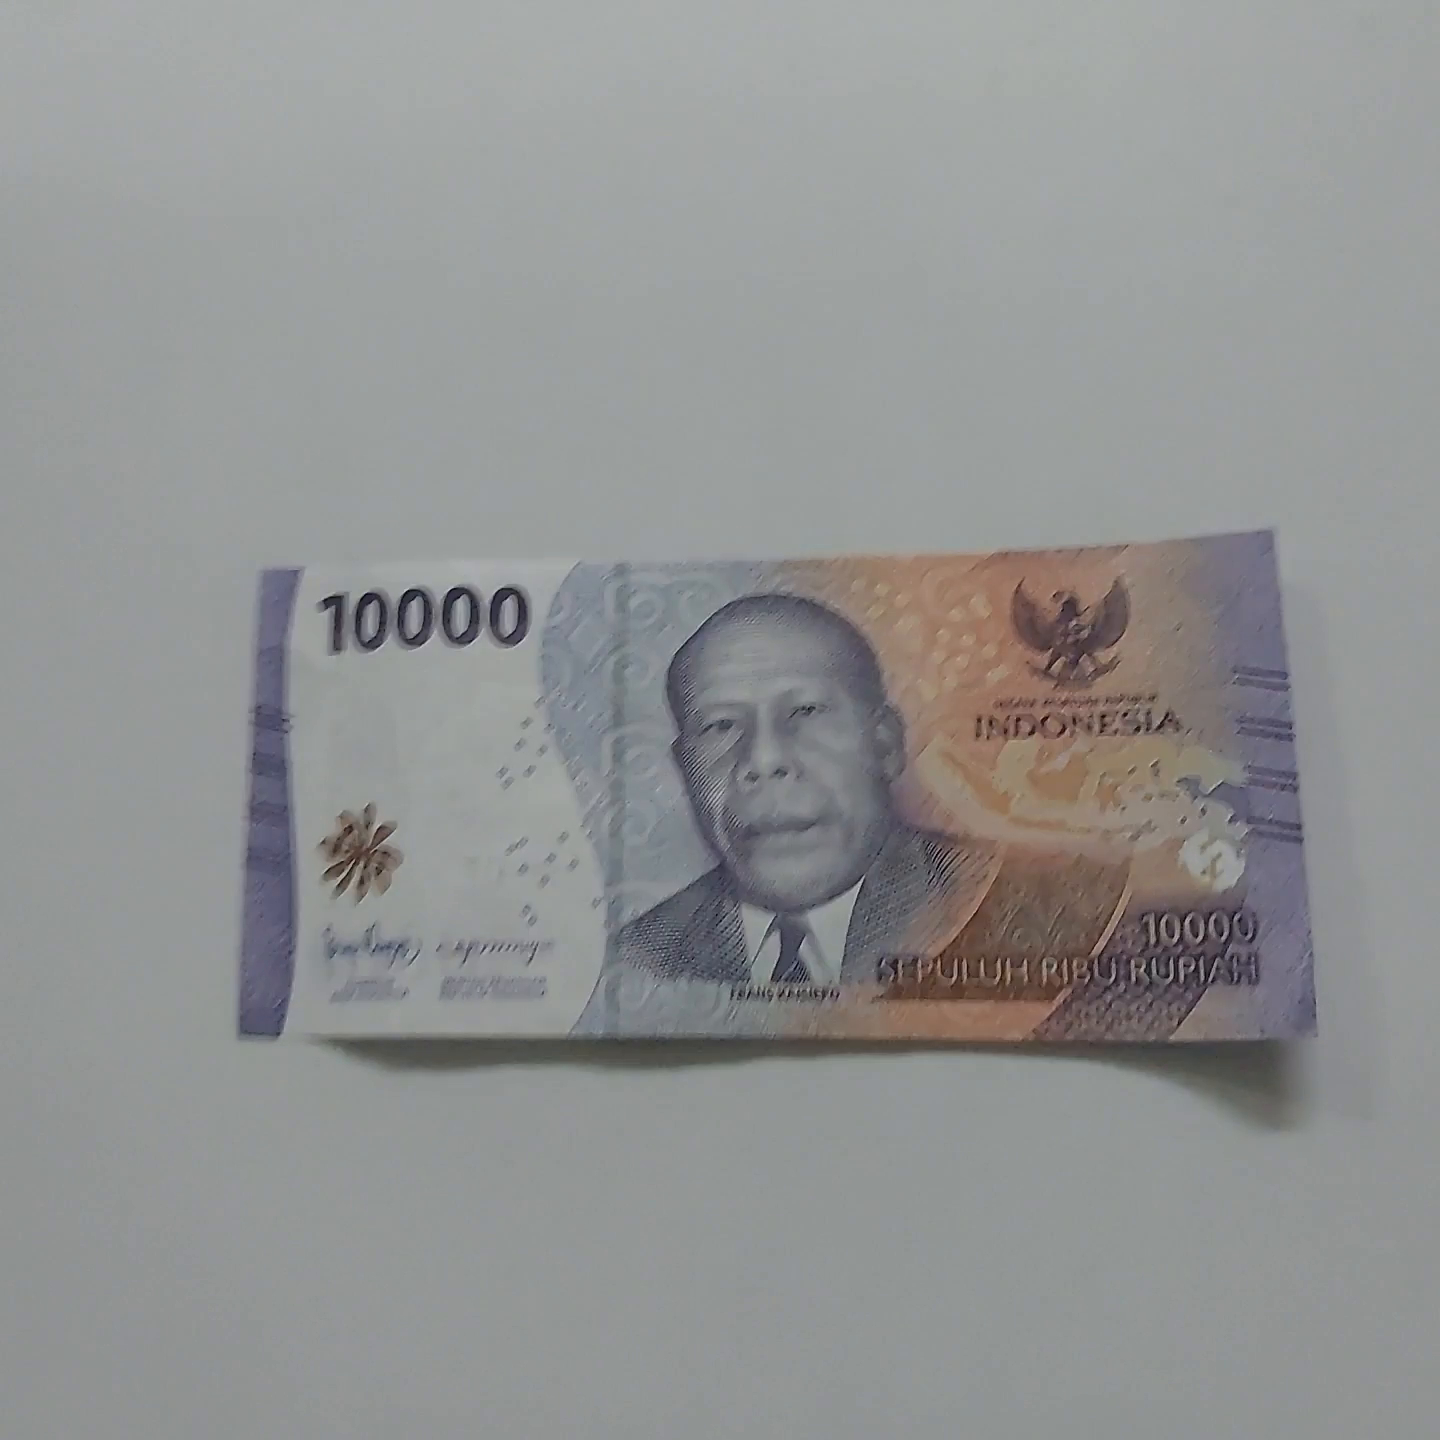10k: (222, 501, 1319, 1054)
